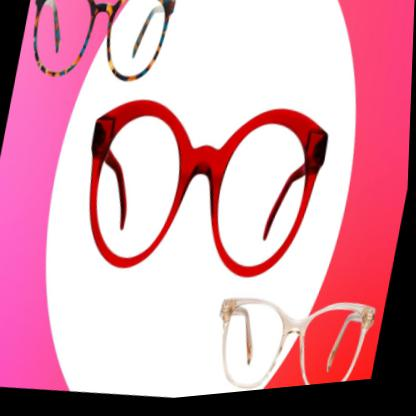Spectacles: (67, 78, 337, 307), (208, 283, 381, 398), (19, 0, 182, 101)
